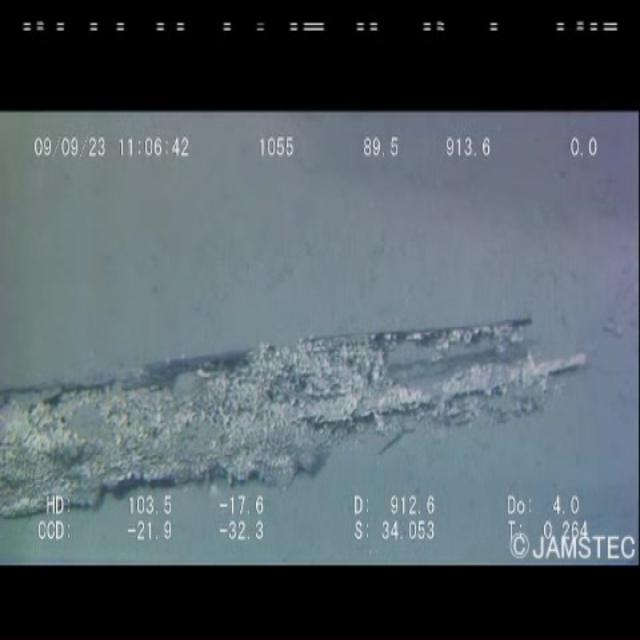Wood: (1, 294, 597, 544)
